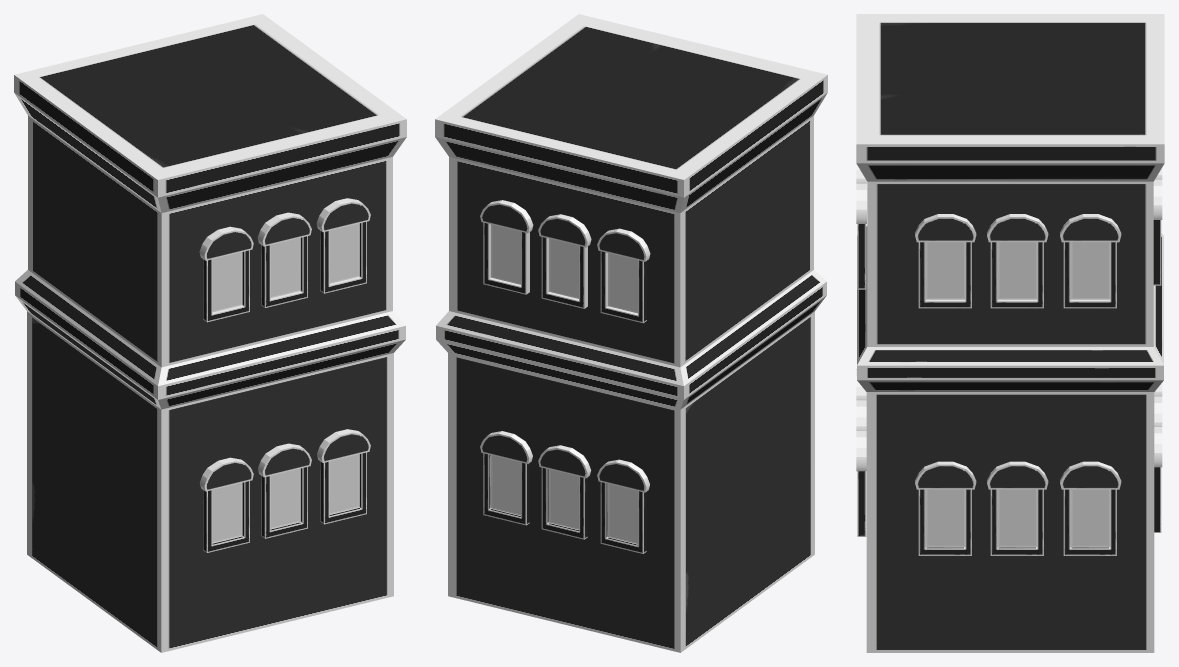
File: ApartmentGGJ.fbx
The picture shows the model from 3 angles, left to right: view 1: azimuth 30°, elevation 25°; view 2: azimuth 150°, elevation 25°; view 3: azimuth 270°, elevation 25°; orthographic projection. The views are drawn at different scales.
Parts seen in each view (by area): view 1: polySurface32; view 2: polySurface32; view 3: polySurface32.
Part boxes in pixels (x1=…): polySurface32: x1=14, y1=14, x2=406, y2=652; polySurface32: x1=435, y1=14, x2=827, y2=652; polySurface32: x1=856, y1=14, x2=1164, y2=652.
Size of the model in its own units: 16.82 by 30.86 by 16.82.
